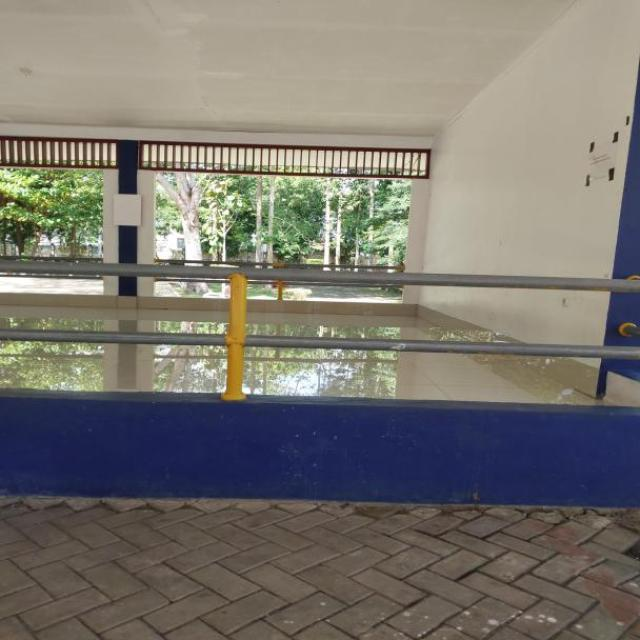barrier ahead at: (0, 260, 639, 514)
